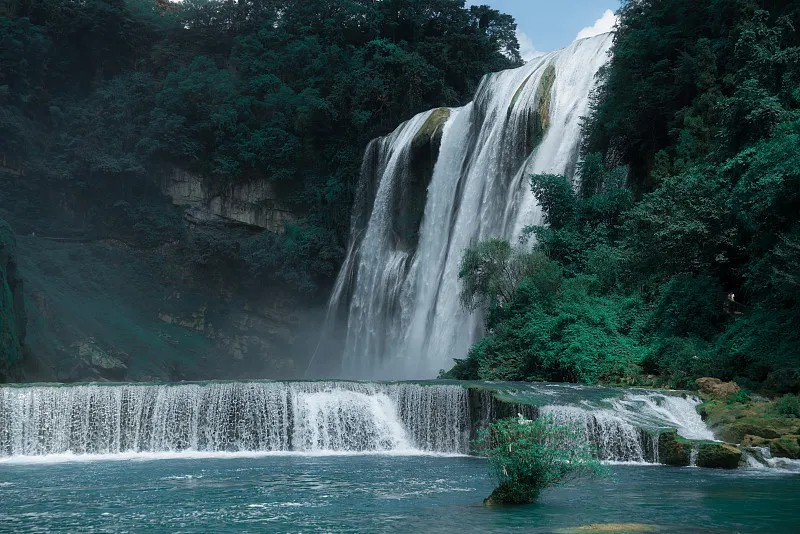Huangguoshu: (326, 30, 615, 377)
